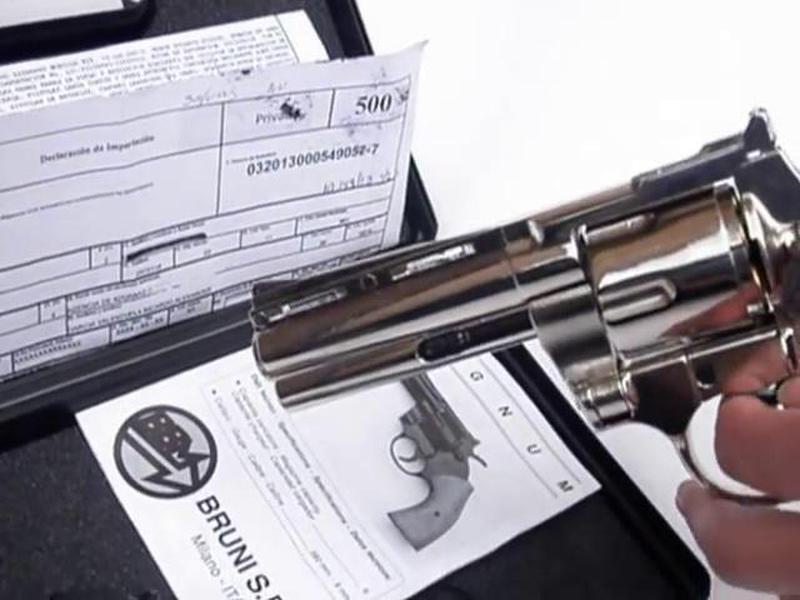Revolver: (242, 145, 800, 483)
